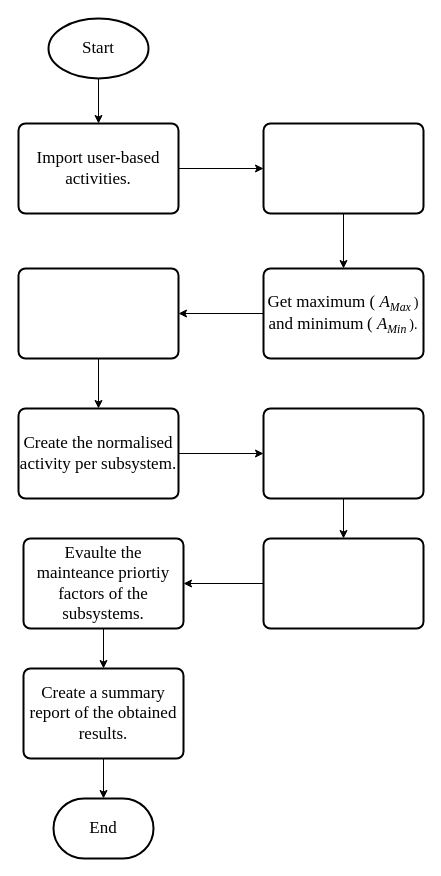
This 441x876 diagram has some shape labels left out. The shapes that lost their labels are listed below. From the top down, each one's centre as x and y in pixels, then its label:
At [343,168]: "Aggregate logs per subsystem.".
At [98,313]: "Get maximum ( P Max ) and minimum ( P Min ).".
At [343,453]: "Create the normalised priority per subsystem.".
At [343,583]: "Create maintenance priortiy factor.".
